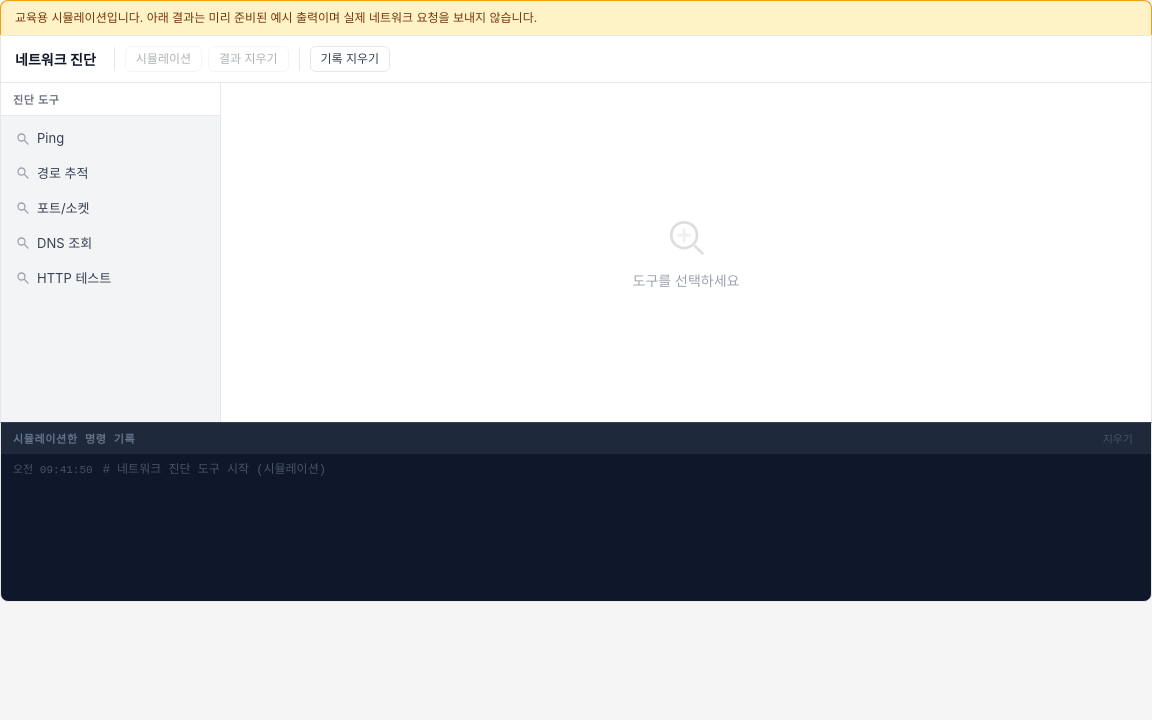
NetworkDiagnostics simulation page › rejects a bare label in the DNS lookup form
Click the text "DNS 조회" at (65, 243), box [37,235,92,251]
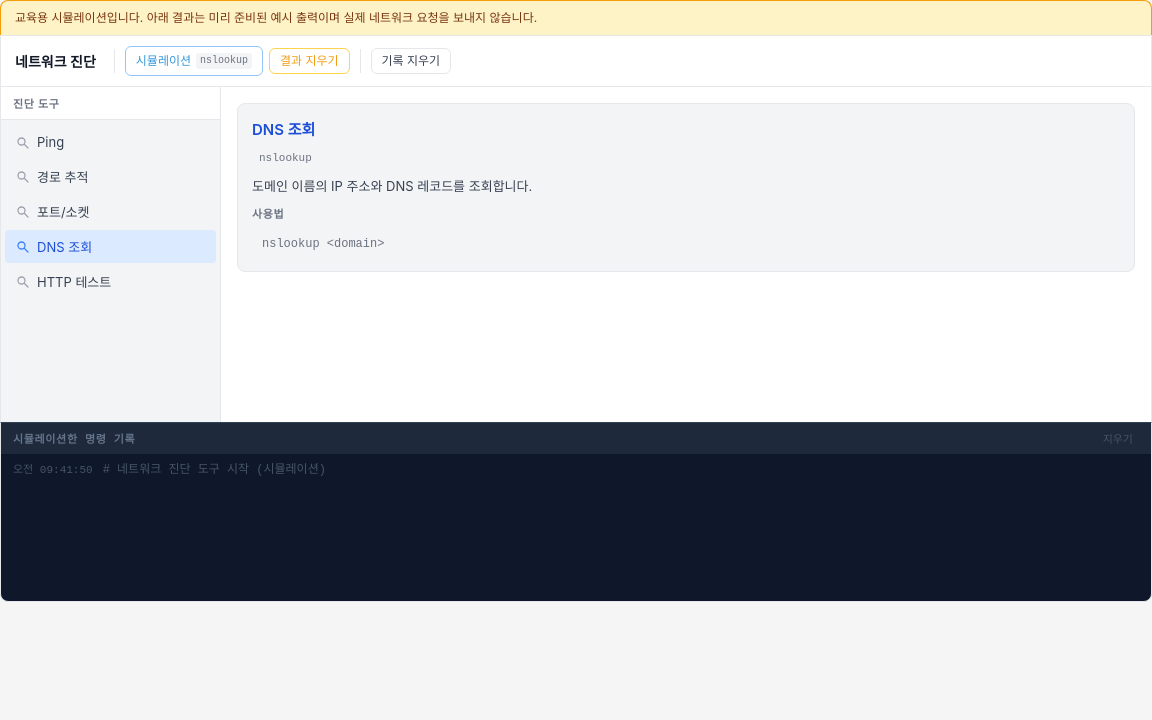
Click the button "시뮬레이션 nslookup" at (194, 61), box [125,46,263,76]
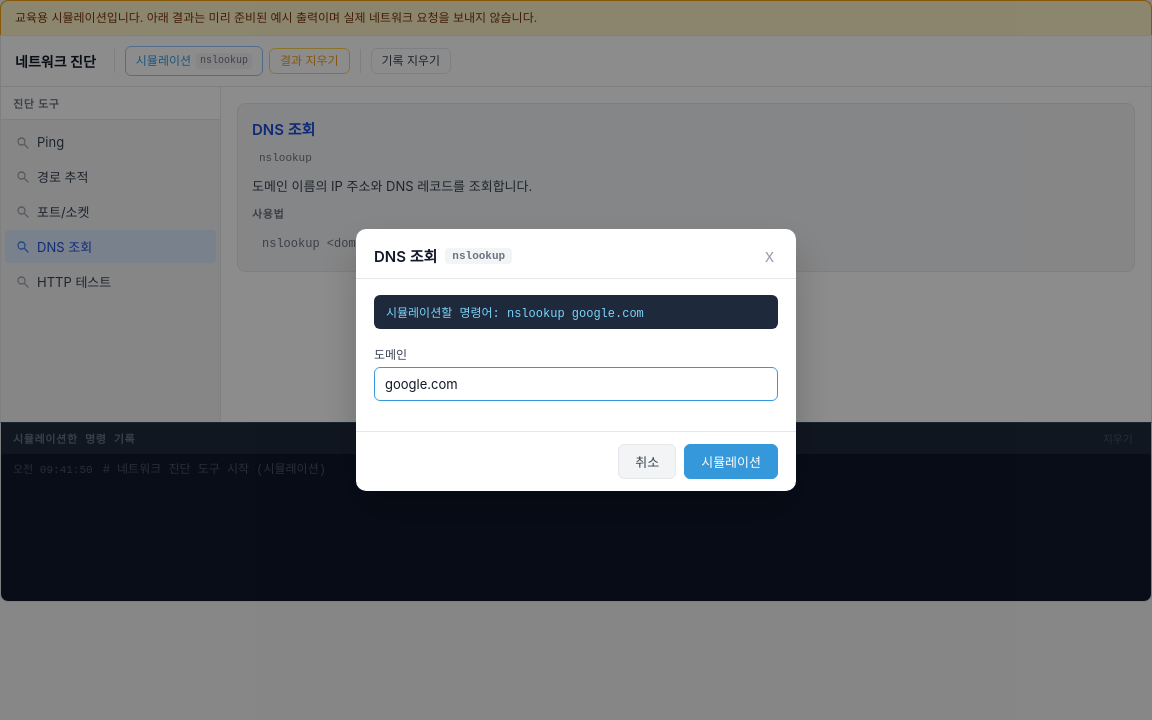
Replace the text in the field labelled "도메인" with "localhost" at (576, 384), box [374,367,778,401]
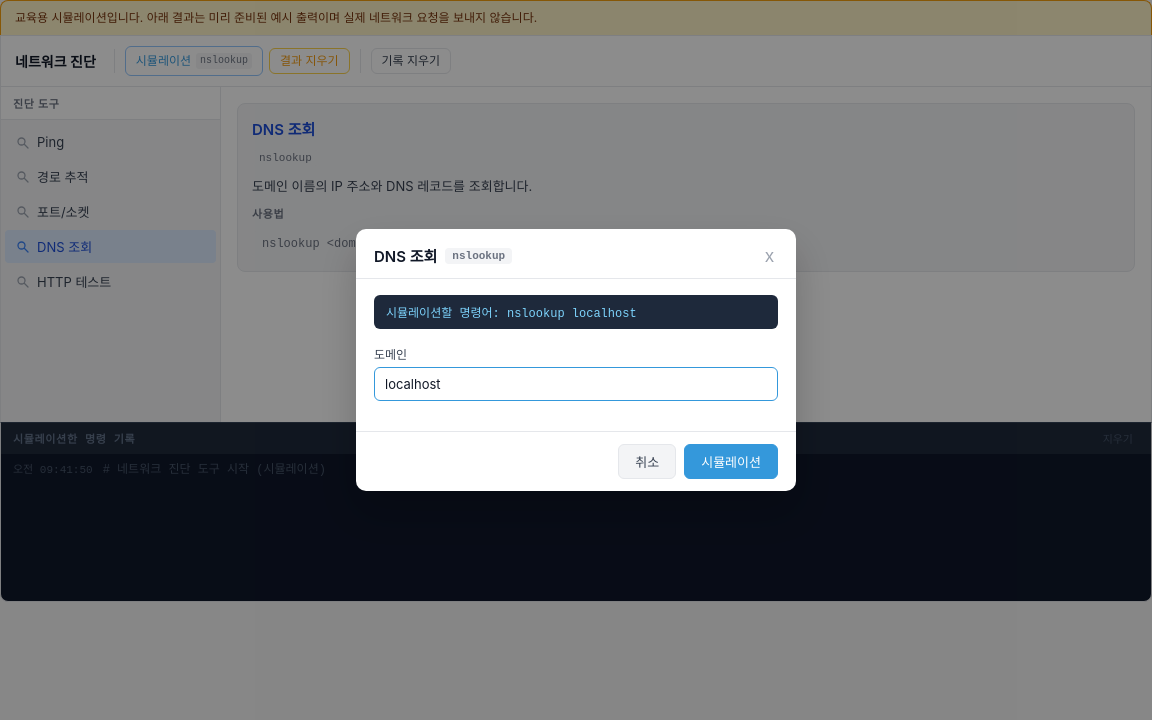
Click the button "시뮬레이션" at (731, 462), box [684,444,778,479]
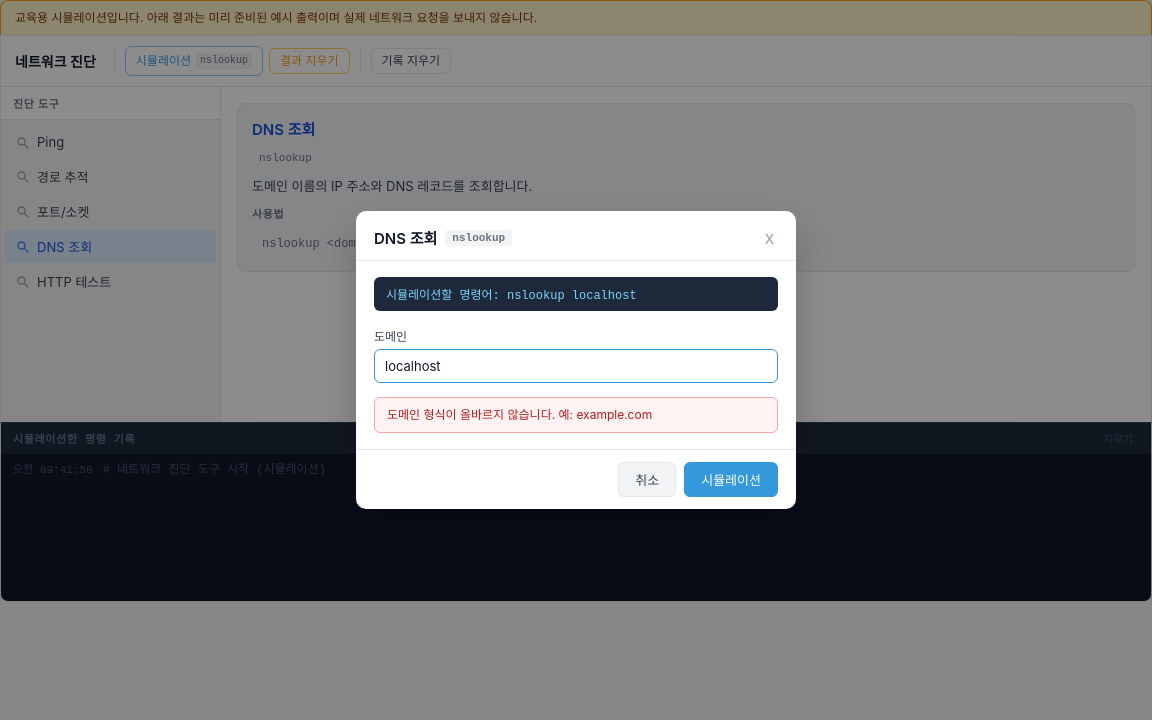
Check: the message shows "도메인 형식이 올바르지 않습니다", box [387,407,652,422]
